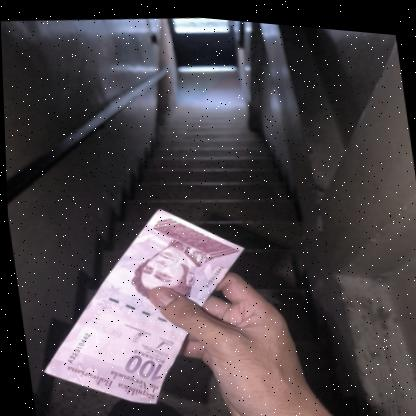vef_front: (18, 186, 264, 416)
